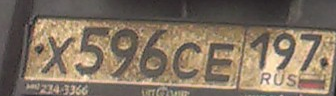character: (76, 26, 109, 81), (110, 26, 140, 82), (41, 34, 75, 77), (142, 27, 167, 84), (204, 42, 234, 86), (173, 39, 201, 84), (299, 29, 324, 75), (273, 31, 296, 72), (251, 31, 270, 74)
